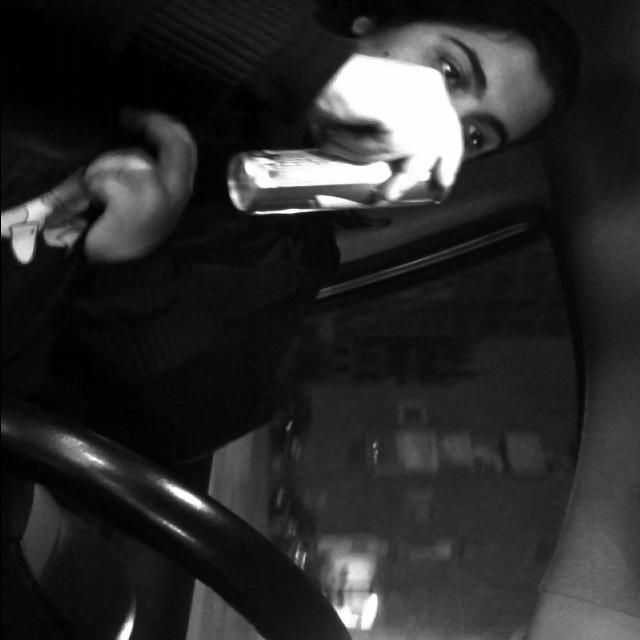drinking: (223, 142, 447, 218)
